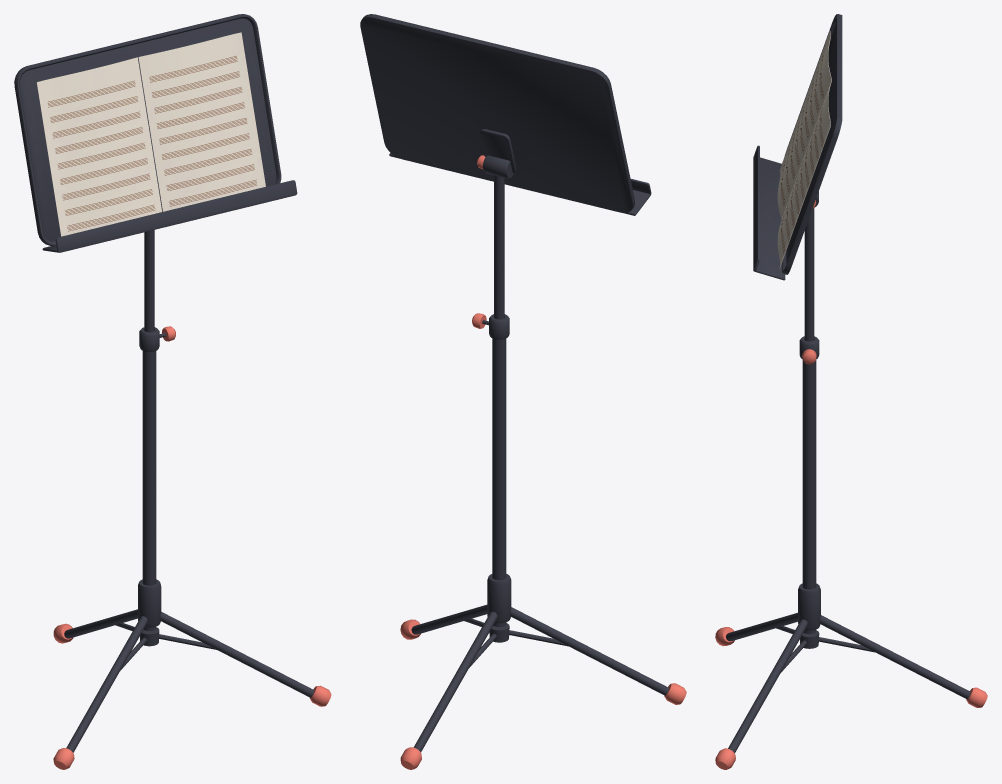
File: music-stand.glb
The picture shows the model from 3 angles, left to right: view 1: azimuth 30°, elevation 25°; view 2: azimuth 150°, elevation 25°; view 3: azimuth 270°, elevation 25°; orthographic projection. The views are drawn at different scales.
Visible parts, largest first — view 1: singing-score-pages, singing-score-panel-and-slider, singing-tripod; view 2: singing-score-panel-and-slider, singing-tripod; view 3: singing-tripod, singing-score-panel-and-slider, singing-score-pages.
Part boxes in pixels (<box>): singing-score-pages: <box>36,32,265,236</box>; singing-score-panel-and-slider: <box>14,14,297,332</box>; singing-tripod: <box>53,326,331,769</box>; singing-score-panel-and-slider: <box>360,14,651,319</box>; singing-tripod: <box>400,313,686,769</box>; singing-tripod: <box>715,336,987,769</box>; singing-score-panel-and-slider: <box>753,14,842,341</box>; singing-score-pages: <box>777,31,831,268</box>.
Size of the model in its own units: 0.5712 by 1.29 by 0.4985.
Materials: 2 (2 with a texture image).
